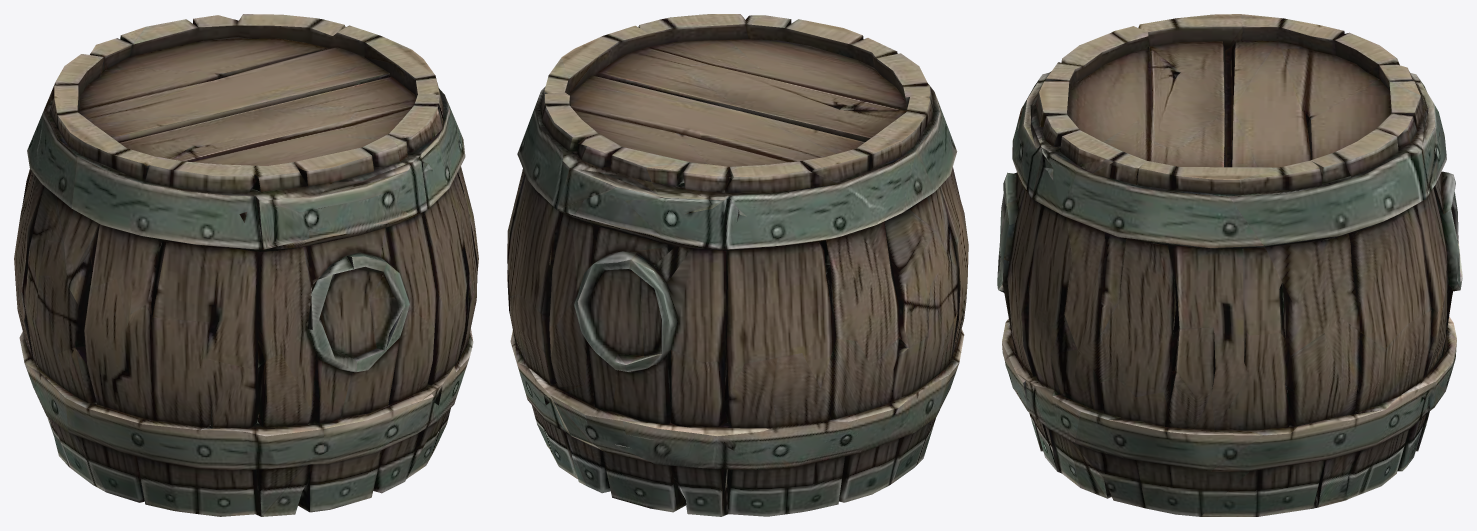
Rendered from prop_barrel.glb.
3 renders of one model, left to right at view 1: azimuth 30°, elevation 25°; view 2: azimuth 150°, elevation 25°; view 3: azimuth 270°, elevation 25°, orthographic.
Bounding box in the file's own units: 1.88 × 1.53 × 1.89.
1 material, 1 textured.
